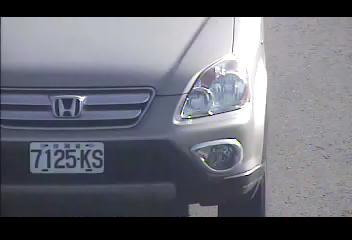plate: (28, 140, 105, 175)
